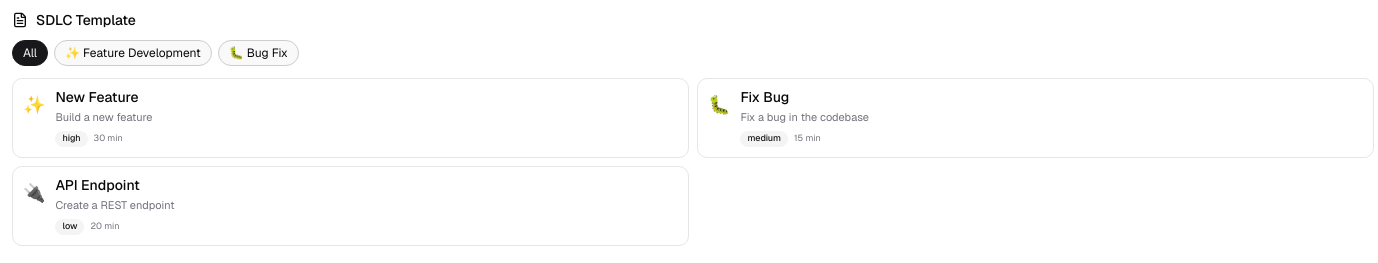
Scenario: TemplatePicker › filters templates by category
The width and height of the screenshot is (1378, 263).
Click the button "🐛 Bug Fix".
click(258, 53)  # box 218,40 -> 299,66
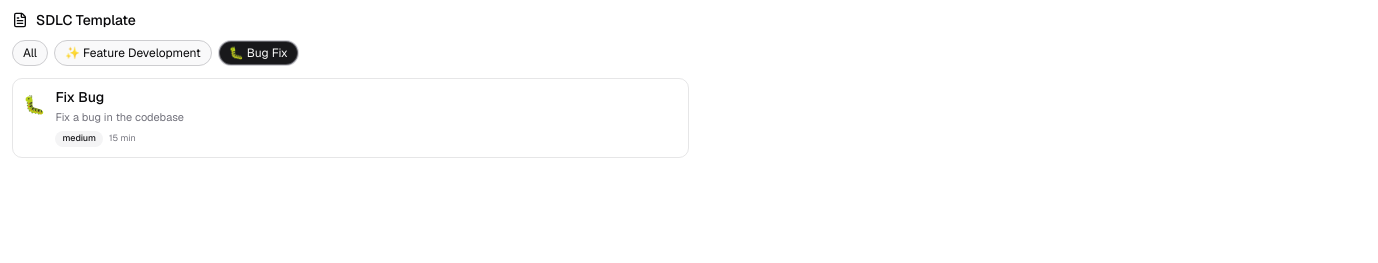
Check: the text "Fix Bug" is shown, box 56,88 -> 104,106
Check: the button "New Feature" is gone
Check: the button "API Endpoint" is gone
